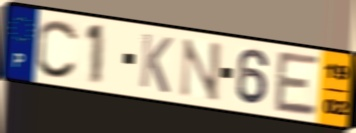1: (84, 23, 107, 86)
6: (236, 47, 271, 108)
C: (35, 17, 81, 81)
E: (273, 49, 322, 120)
K: (137, 30, 175, 96)
N: (177, 36, 224, 104)
